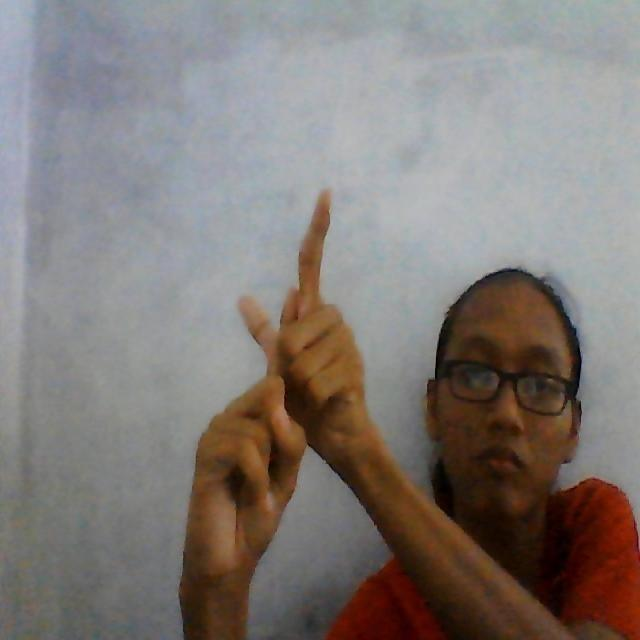Y: (178, 172, 382, 582)
